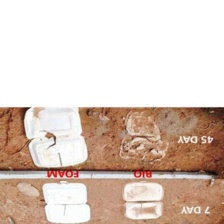foam_box: (21, 106, 89, 168), (116, 109, 172, 165), (39, 178, 92, 224), (121, 178, 166, 221)
